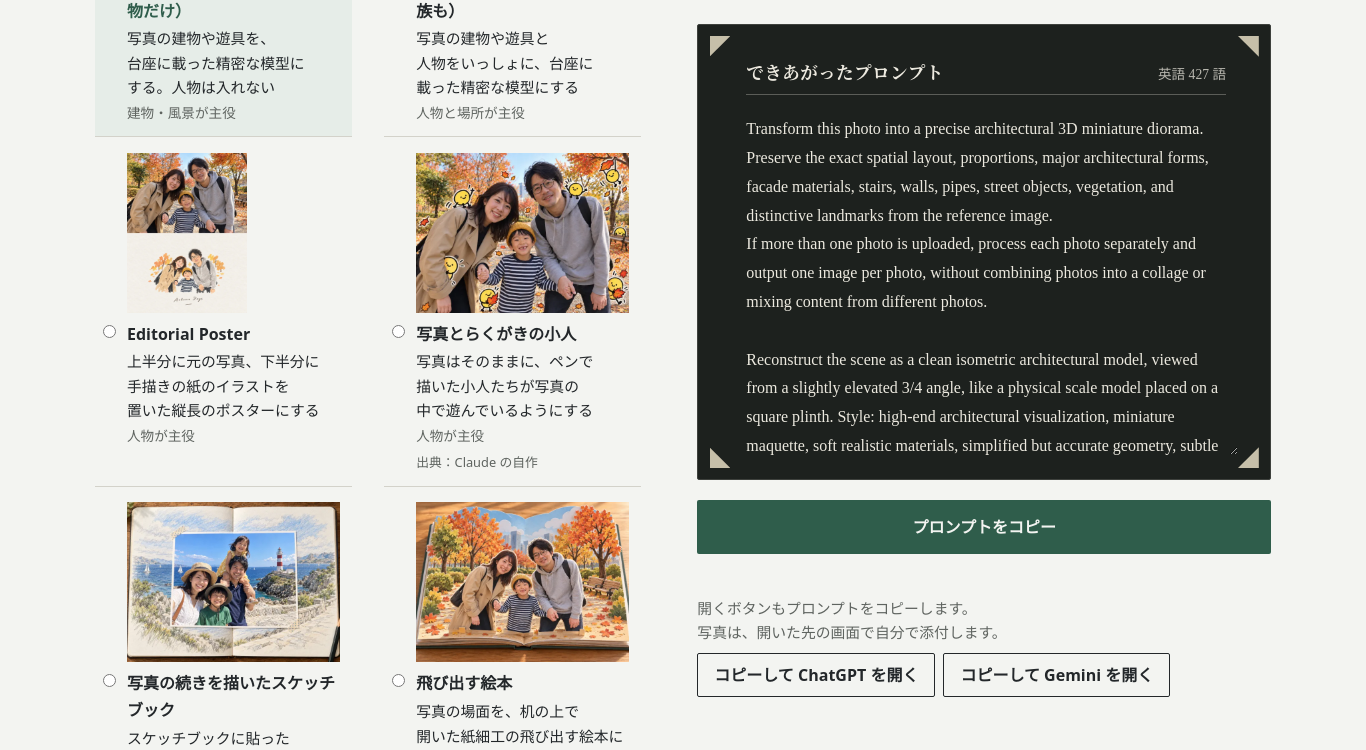
Test: コピーと開くボタン › ChatGPT を開いたら「文が入った状態で開く」と知らせ、Gemini とコピーボタンでは「貼り付けて」と知らせる
(page scrolled)
Click the link "コピーして ChatGPT を開く".
click(816, 675)  # box [697, 653, 935, 697]
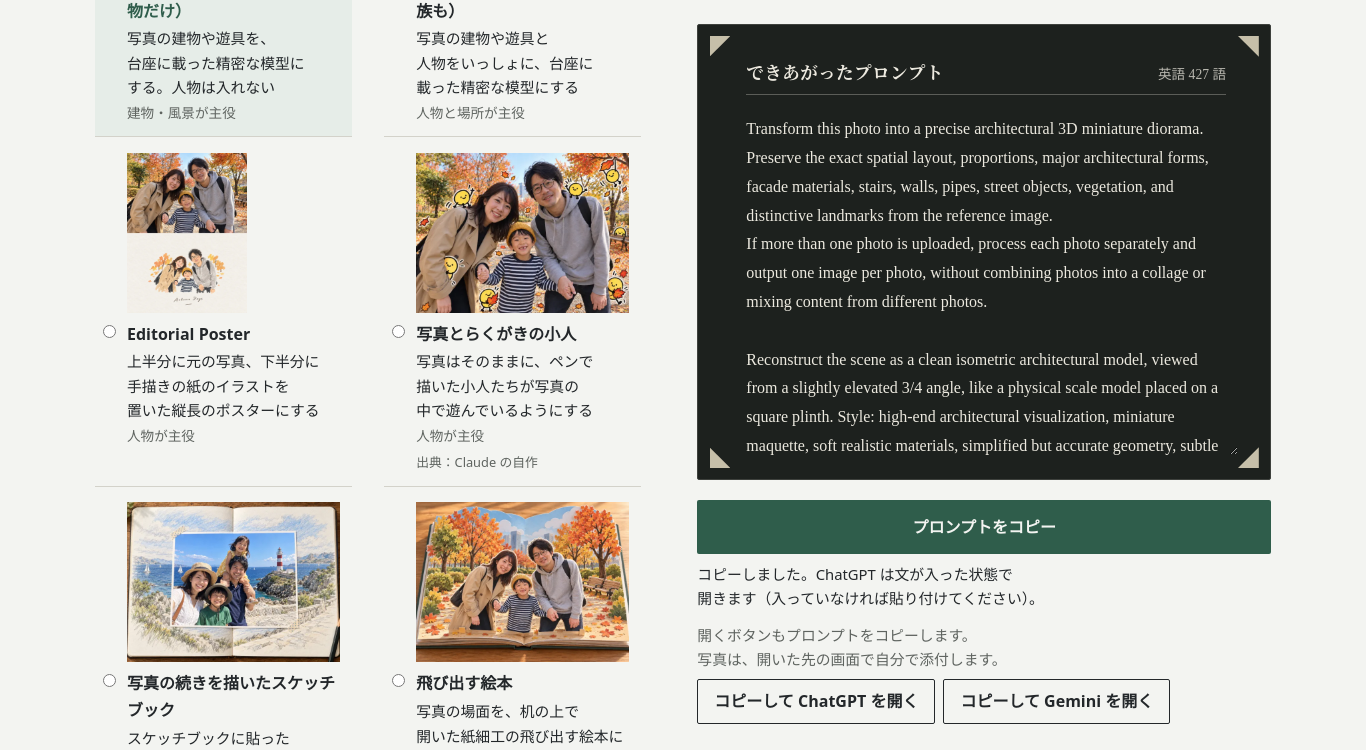
Check: the text "コピーしました。ChatGPT は文が入った状態で開きます（入っていなければ貼り付けてください）。" is shown, box [697, 564, 1044, 608]
Click the link "コピーして Gemini を開く".
click(1057, 702)  # box [943, 680, 1170, 724]
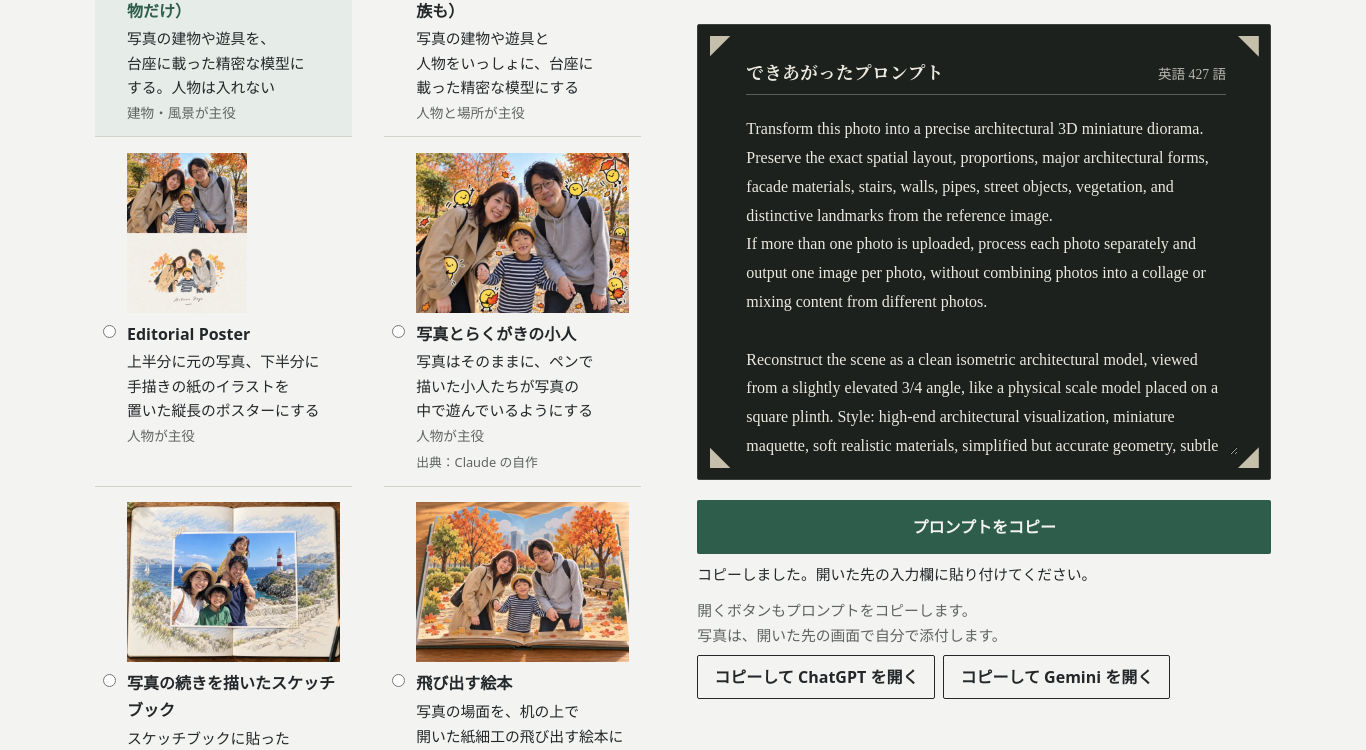
Check: the text "コピーしました。開いた先の入力欄に貼り付けてください。" is shown, box [697, 564, 1096, 584]
Click the link "コピーして ChatGPT を開く".
click(816, 677)  # box [697, 655, 935, 700]
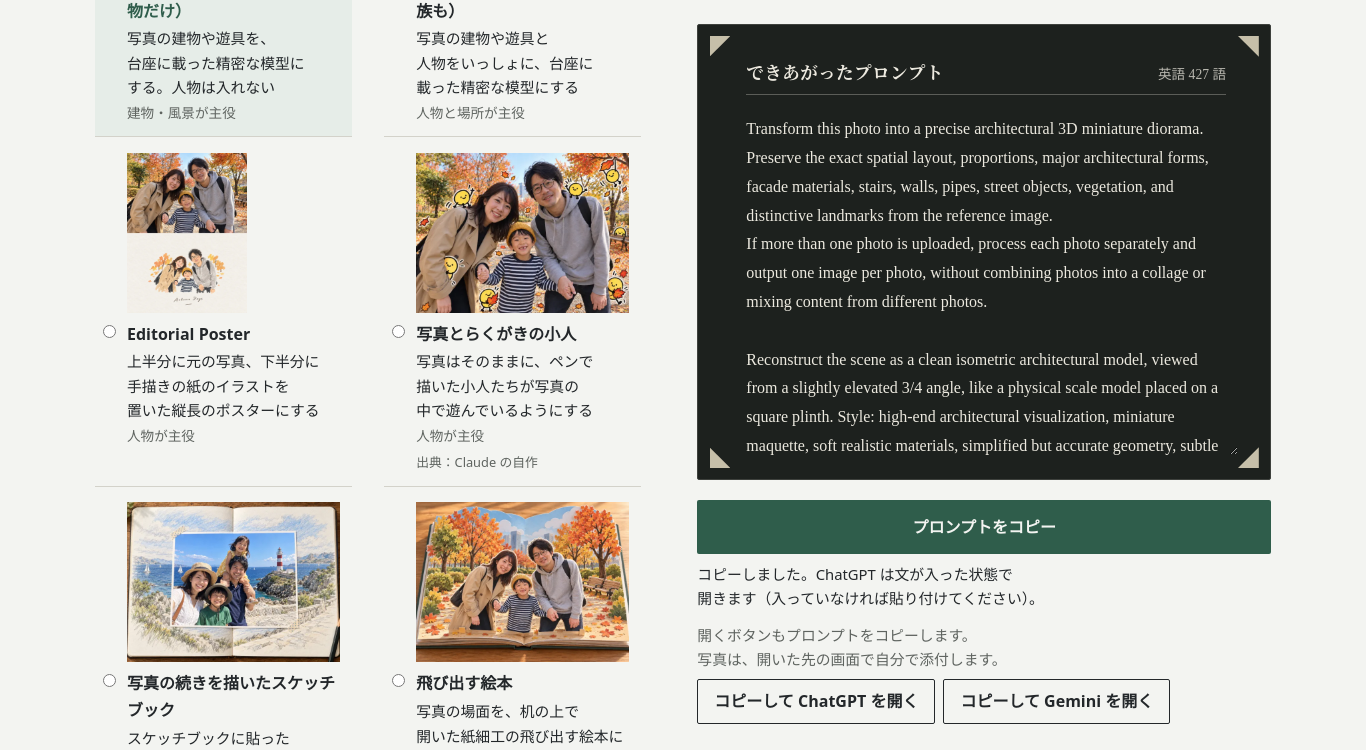
Check: the text "コピーしました。ChatGPT は文が入った状態で開きます（入っていなければ貼り付けてください）。" is shown, box [697, 564, 1044, 608]
Click the button "プロンプトをコピー".
click(984, 527)  # box [697, 500, 1271, 554]
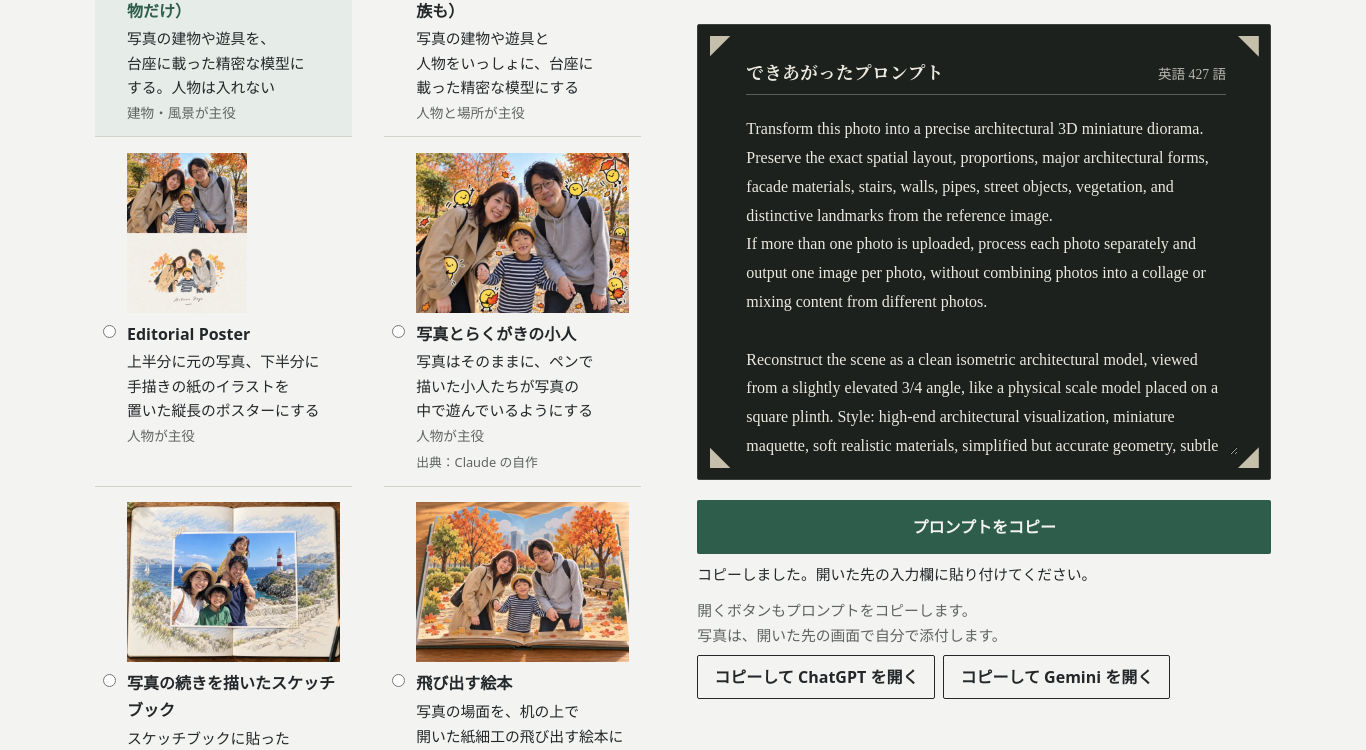
Check: the text "コピーしました。開いた先の入力欄に貼り付けてください。" is shown, box [697, 564, 1096, 584]
